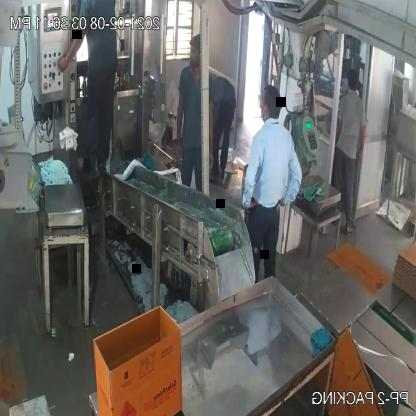no_glove: (48, 18, 90, 82), (273, 137, 304, 214), (235, 139, 267, 206), (199, 91, 221, 182), (169, 81, 190, 176), (358, 110, 374, 161)
